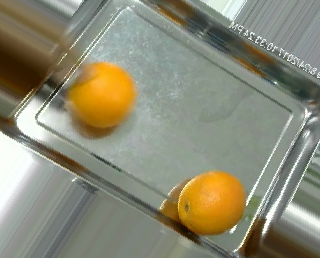Orange: (69, 61, 137, 127), (177, 171, 247, 235)
